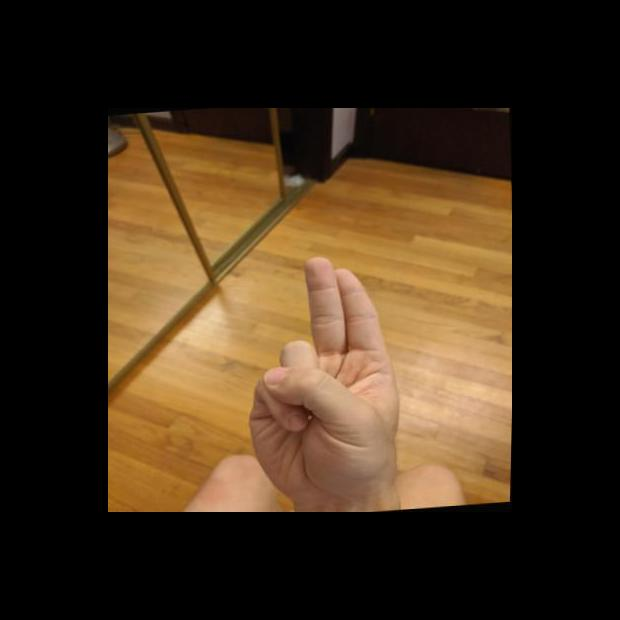T: (235, 247, 412, 509)
